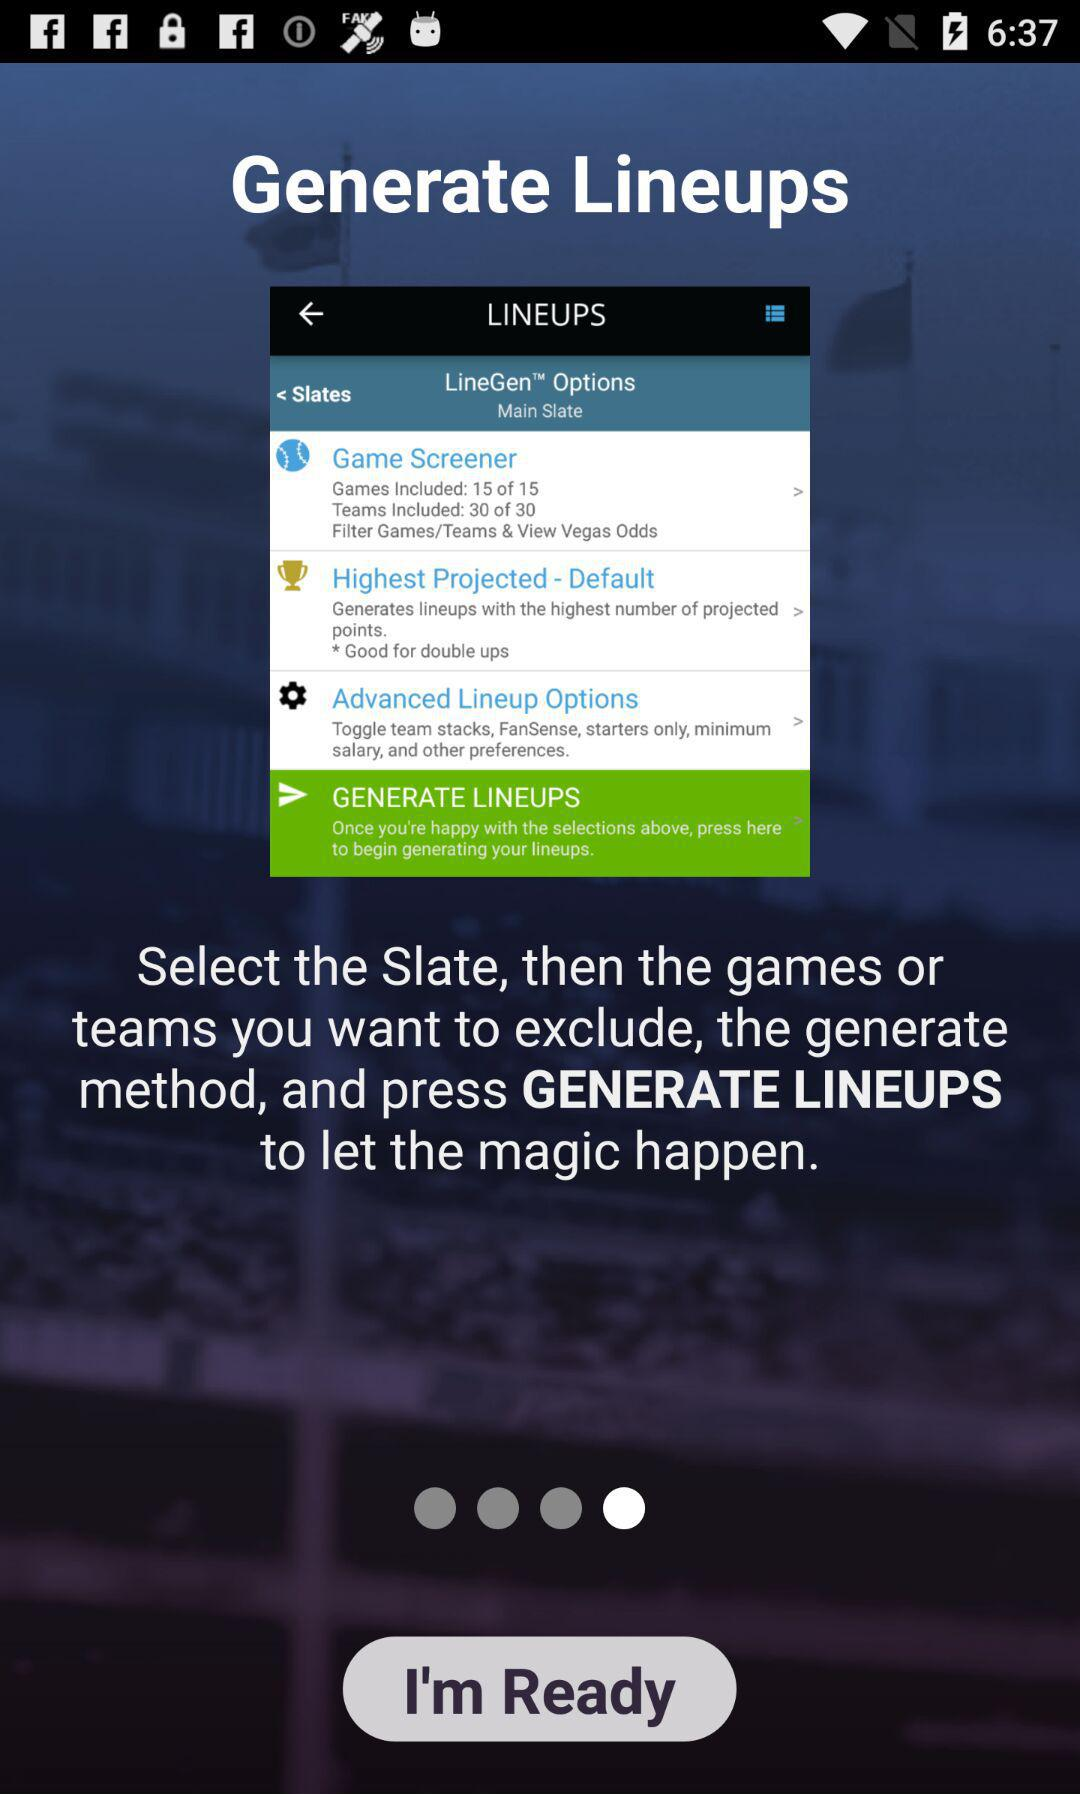BackgroundImage: (1, 64, 1080, 1794)
Image: (270, 287, 811, 878)
PageIndicator: (413, 1485, 647, 1533)
Text: (72, 944, 1010, 1183), (232, 154, 849, 231)
TextButton: (343, 1635, 738, 1743)
UpperTaskBar: (1, 1, 1080, 64)
